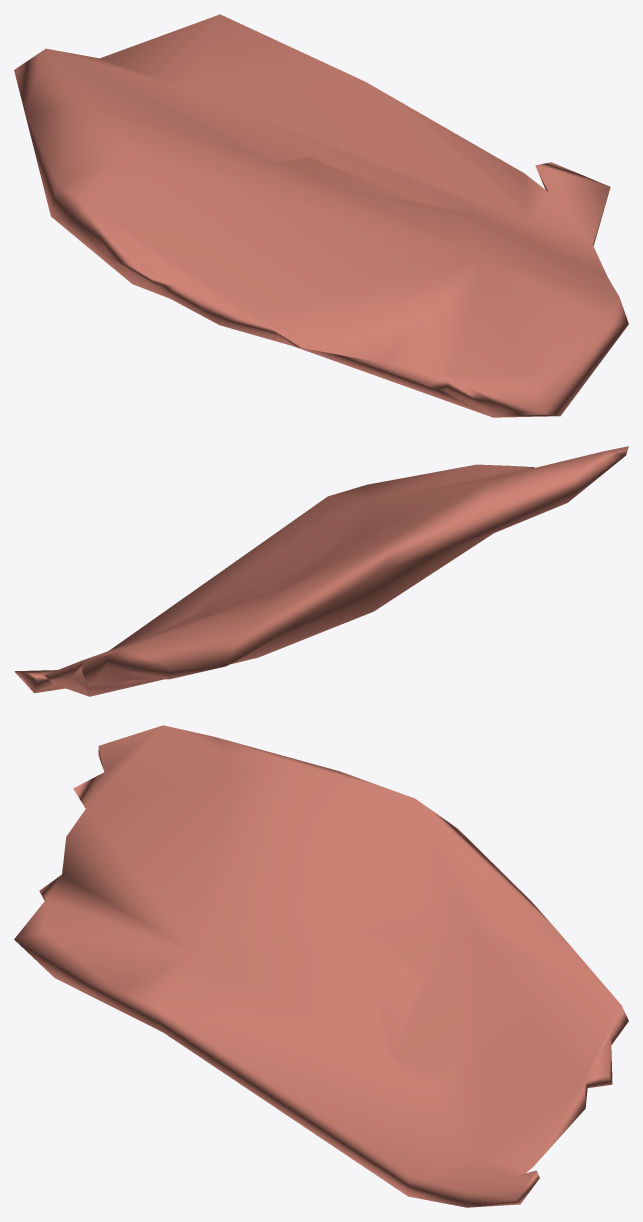
The picture shows the model from 3 angles, top to bottom: view 1: azimuth 30°, elevation 25°; view 2: azimuth 150°, elevation 25°; view 3: azimuth 270°, elevation 25°; orthographic projection. The views are drawn at different scales.
Parts seen in each view (by area): view 1: 右侧颏肌; view 2: 右侧颏肌; view 3: 右侧颏肌.
Boxes of the visible parts, box(x1,y1,x2,y2) form: 右侧颏肌: box(14, 14, 628, 417); 右侧颏肌: box(14, 446, 628, 696); 右侧颏肌: box(14, 725, 628, 1207).
Size of the model in its own units: 0.0202 by 0.0104 by 0.0217.
